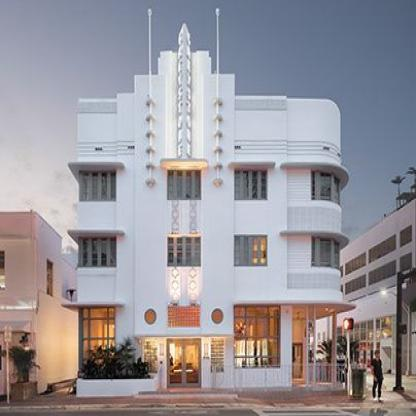Building Outline: (59, 5, 357, 398)
Cornice: (279, 161, 350, 191), (278, 228, 350, 251), (67, 161, 126, 184), (66, 228, 126, 246), (60, 301, 125, 315), (160, 158, 209, 169), (227, 161, 276, 169)
Deco: (177, 18, 192, 157), (146, 7, 156, 188), (213, 7, 223, 187), (187, 269, 198, 304), (170, 269, 180, 304), (188, 200, 198, 233), (171, 200, 180, 233)
Door: (167, 339, 201, 389), (292, 344, 302, 379)
Facade: (59, 5, 357, 398)
Molding: (234, 140, 341, 165), (77, 143, 135, 156)
Window: (235, 307, 278, 367), (81, 309, 115, 378), (307, 312, 331, 362), (80, 237, 117, 266), (80, 171, 116, 200), (168, 168, 201, 199), (167, 237, 201, 267), (234, 236, 268, 266), (234, 170, 267, 200), (312, 170, 340, 205), (312, 237, 339, 270), (168, 307, 201, 328)
